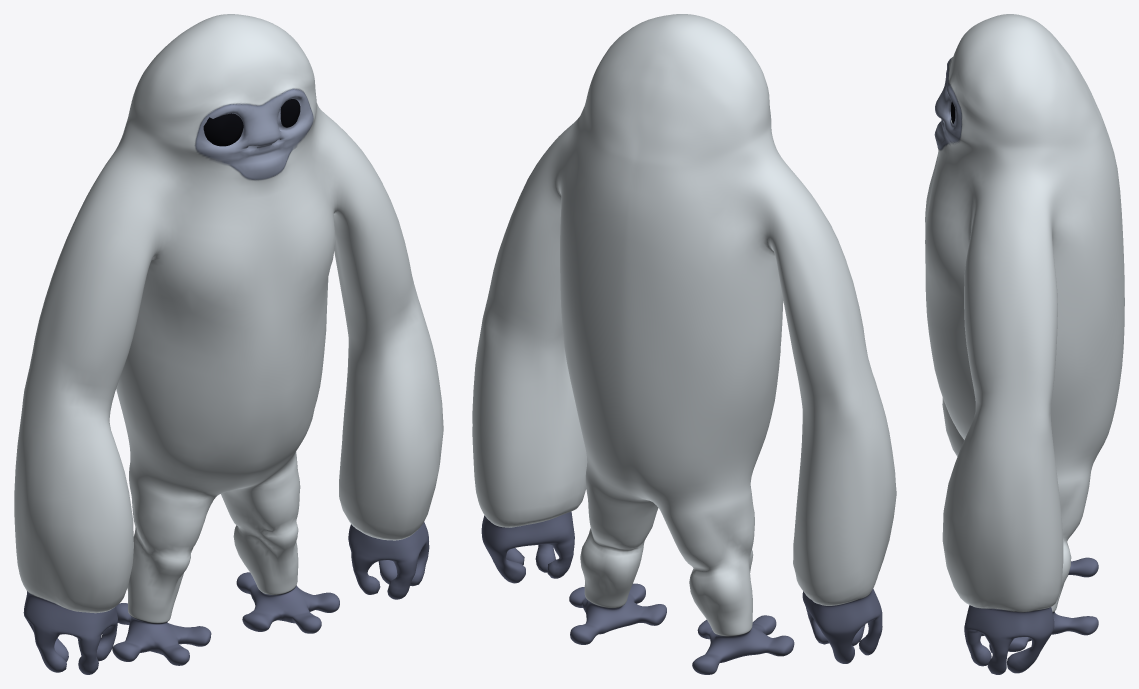
The model's file is Yeti_28000.FBX.
3 views of the same model, side by side, from view 1: azimuth 30°, elevation 25°; view 2: azimuth 150°, elevation 25°; view 3: azimuth 270°, elevation 25° (orthographic). The views are drawn at different scales.
Parts seen in each view (by area): view 1: Yeti, Sphere002; view 2: Yeti; view 3: Yeti.
Part boxes in pixels (x1,y1,x2,y2): Yeti: [14, 14, 443, 674]; Sphere002: [203, 113, 243, 146]; Yeti: [472, 14, 896, 674]; Yeti: [925, 14, 1124, 674].
Size of the model in its own units: 1250 by 1796 by 558.
2 materials, 1 textured.
